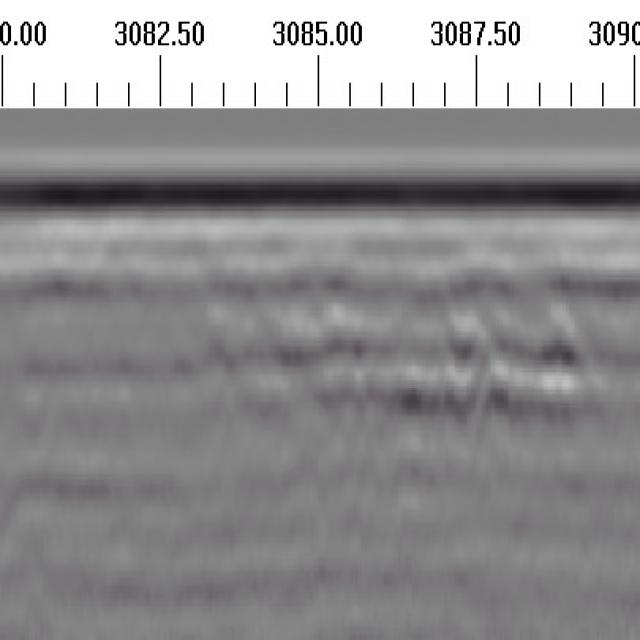loose: (230, 287, 592, 419)
